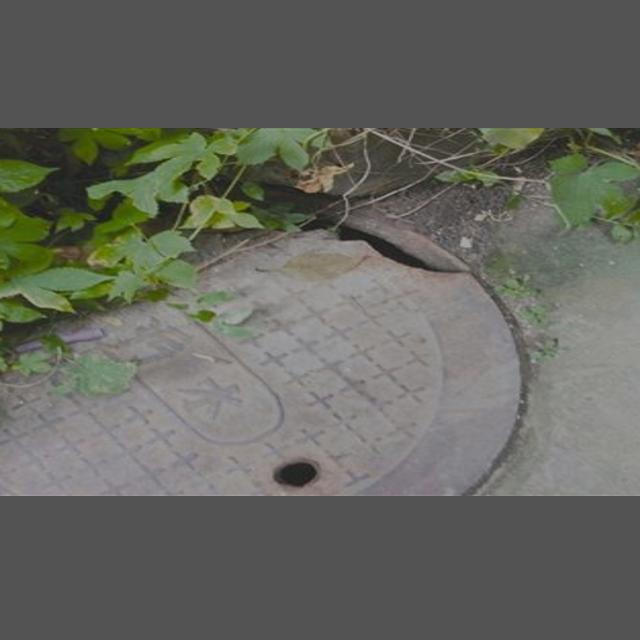broke: (0, 193, 582, 496)
